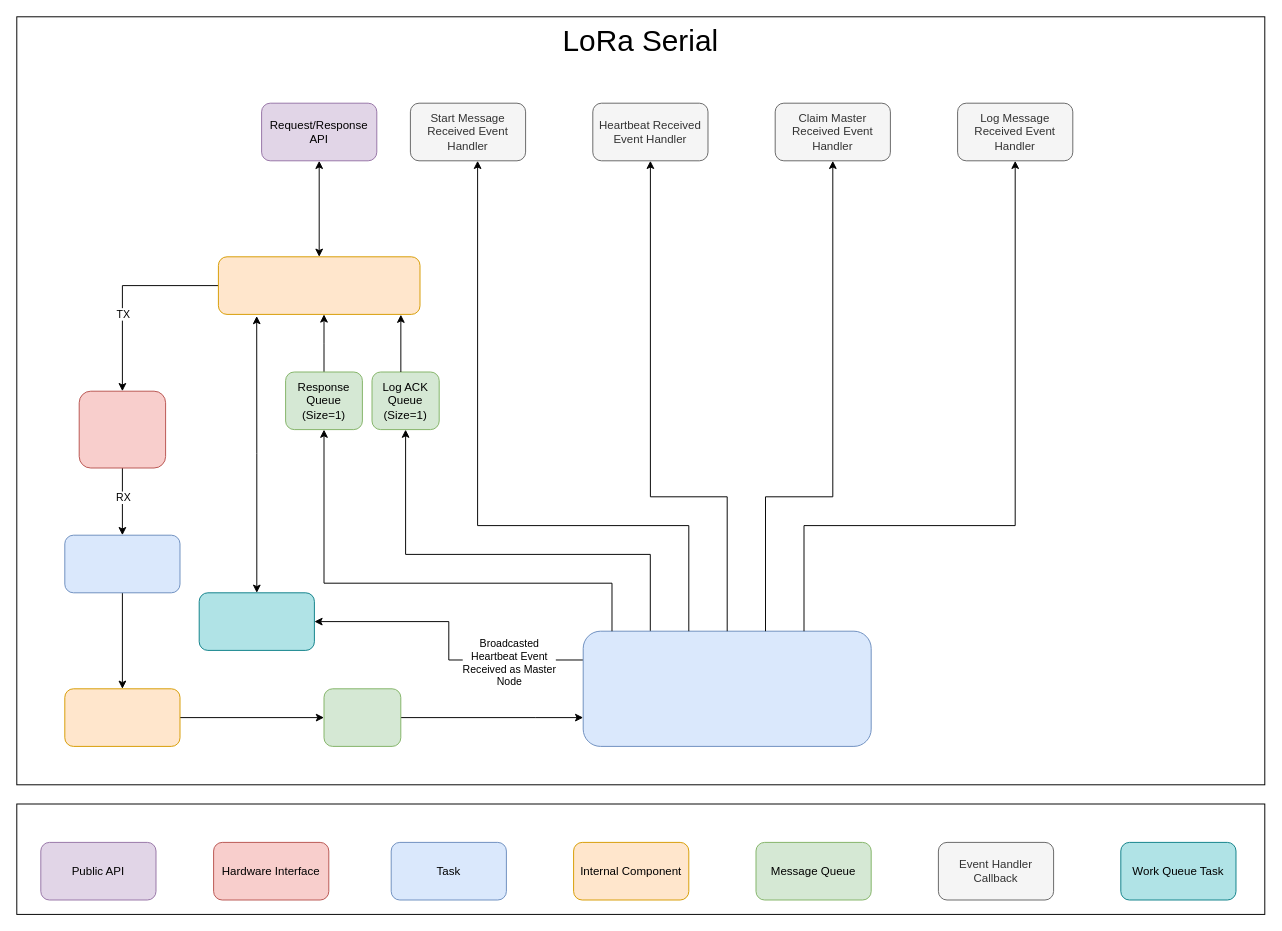
The diagram is 1282 pixels wide and 931 high, and some of its shapes have lost their labels. Here are the shapes that lost their labels. From the top down, the box of each, then its label:
(217, 256, 420, 314): Frame Constructor & Dispatcher
(78, 390, 166, 468): Generic Serial Driver
(64, 534, 180, 593): RX Task
(198, 592, 314, 650): Master Node Claim Task
(582, 630, 871, 746): Dispatching Task
(64, 688, 180, 746): Frame Parsing
(323, 688, 401, 746): RX Queue (Size=10)
(16, 803, 1265, 914): Key
